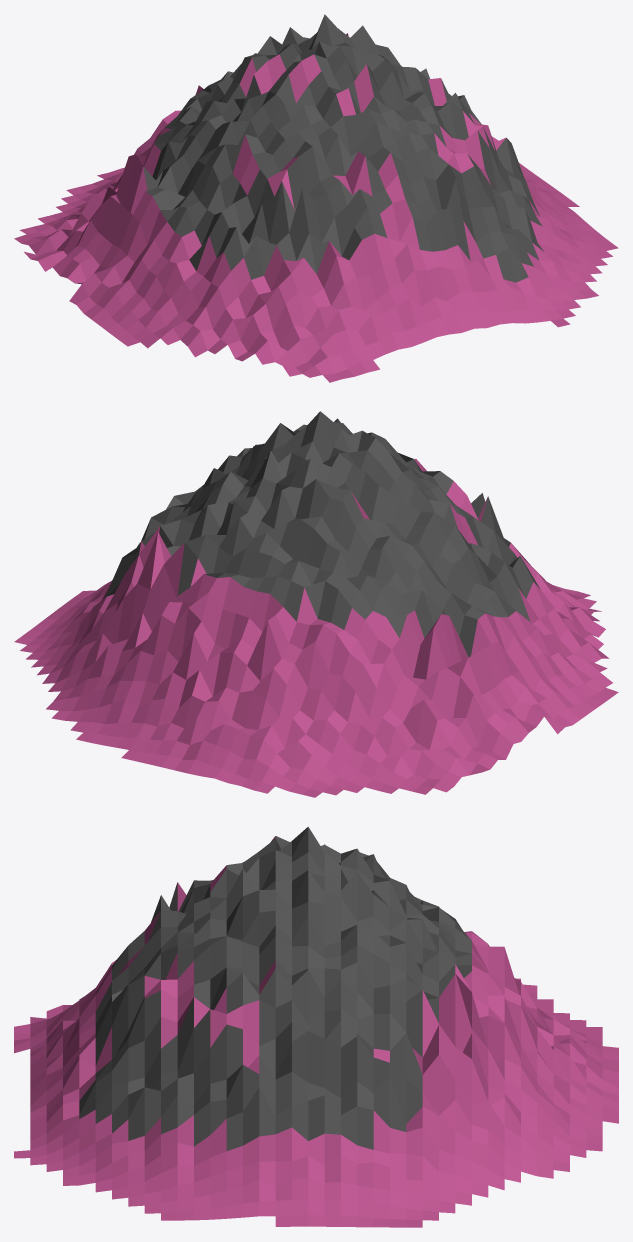
File: Montagne Tuyau.fbx
3 renders of one model, top to bottom at view 1: azimuth 30°, elevation 25°; view 2: azimuth 150°, elevation 25°; view 3: azimuth 270°, elevation 25°, orthographic. The views are drawn at different scales.
Visible parts, largest first — view 1: Plane; view 2: Plane; view 3: Plane.
Part boxes in pixels (bbox=[...]): Plane: bbox=[14, 14, 618, 382]; Plane: bbox=[14, 411, 618, 797]; Plane: bbox=[14, 826, 618, 1227].
Size of the model in its own units: 5429 by 2600 by 5286.
